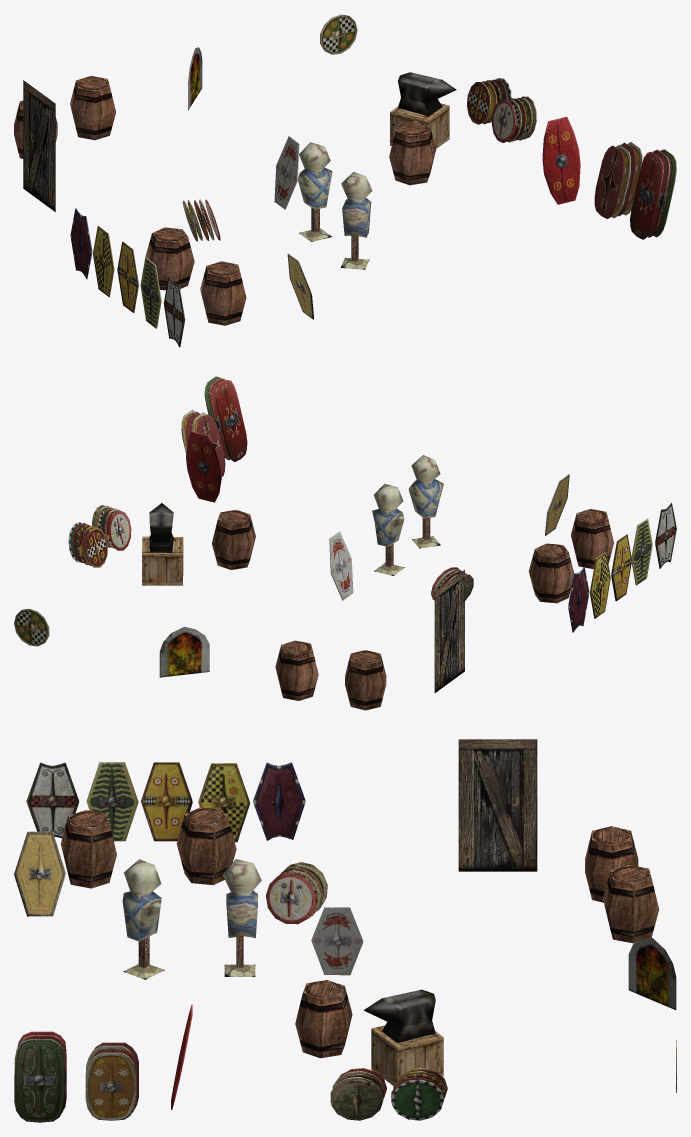
File: celt_barracks_props1.dae
The picture shows the model from 3 angles, top to bottom: view 1: azimuth 30°, elevation 25°; view 2: azimuth 150°, elevation 25°; view 3: azimuth 270°, elevation 25°; orthographic projection. The views are drawn at different scales.
Visible parts, largest first — view 1: shield037; view 2: shield037; view 3: shield037.
Boxes of the visible parts, x1,y1,x2,y2 form: shield037: (14, 14, 676, 347); shield037: (14, 376, 676, 710); shield037: (14, 739, 676, 1122).
Size of the model in its own units: 19.53 by 4.13 by 18.74.
